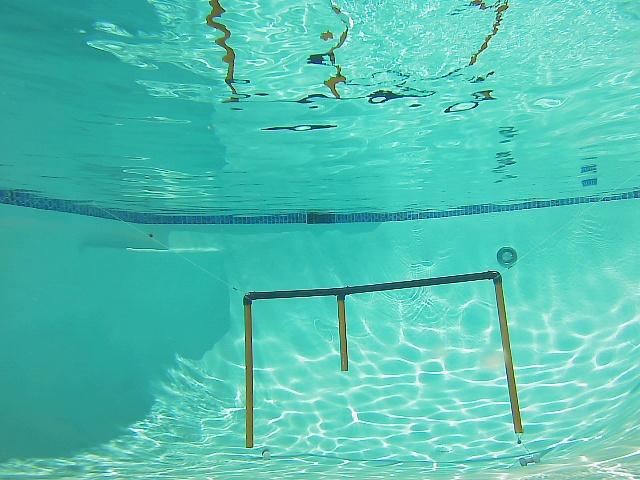Gate: (492, 277, 524, 435), (240, 303, 257, 448), (336, 295, 350, 374)
